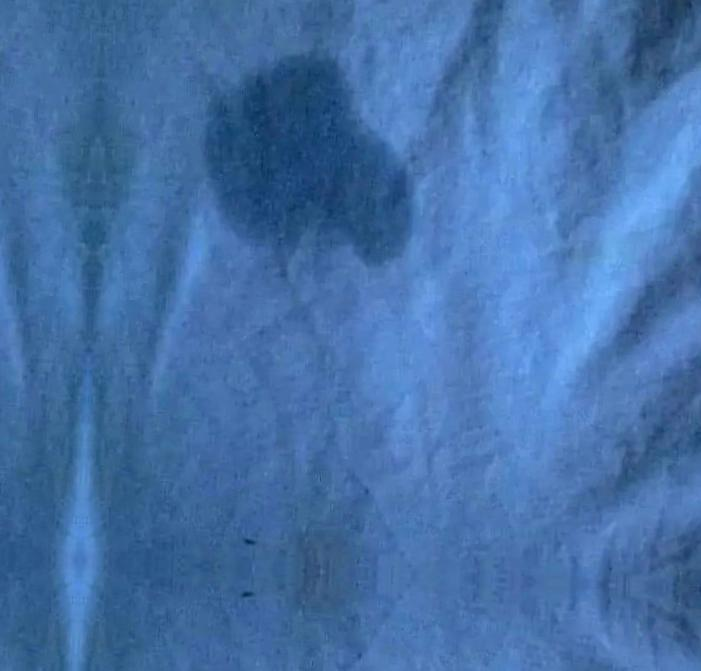stain: (196, 45, 428, 276)
